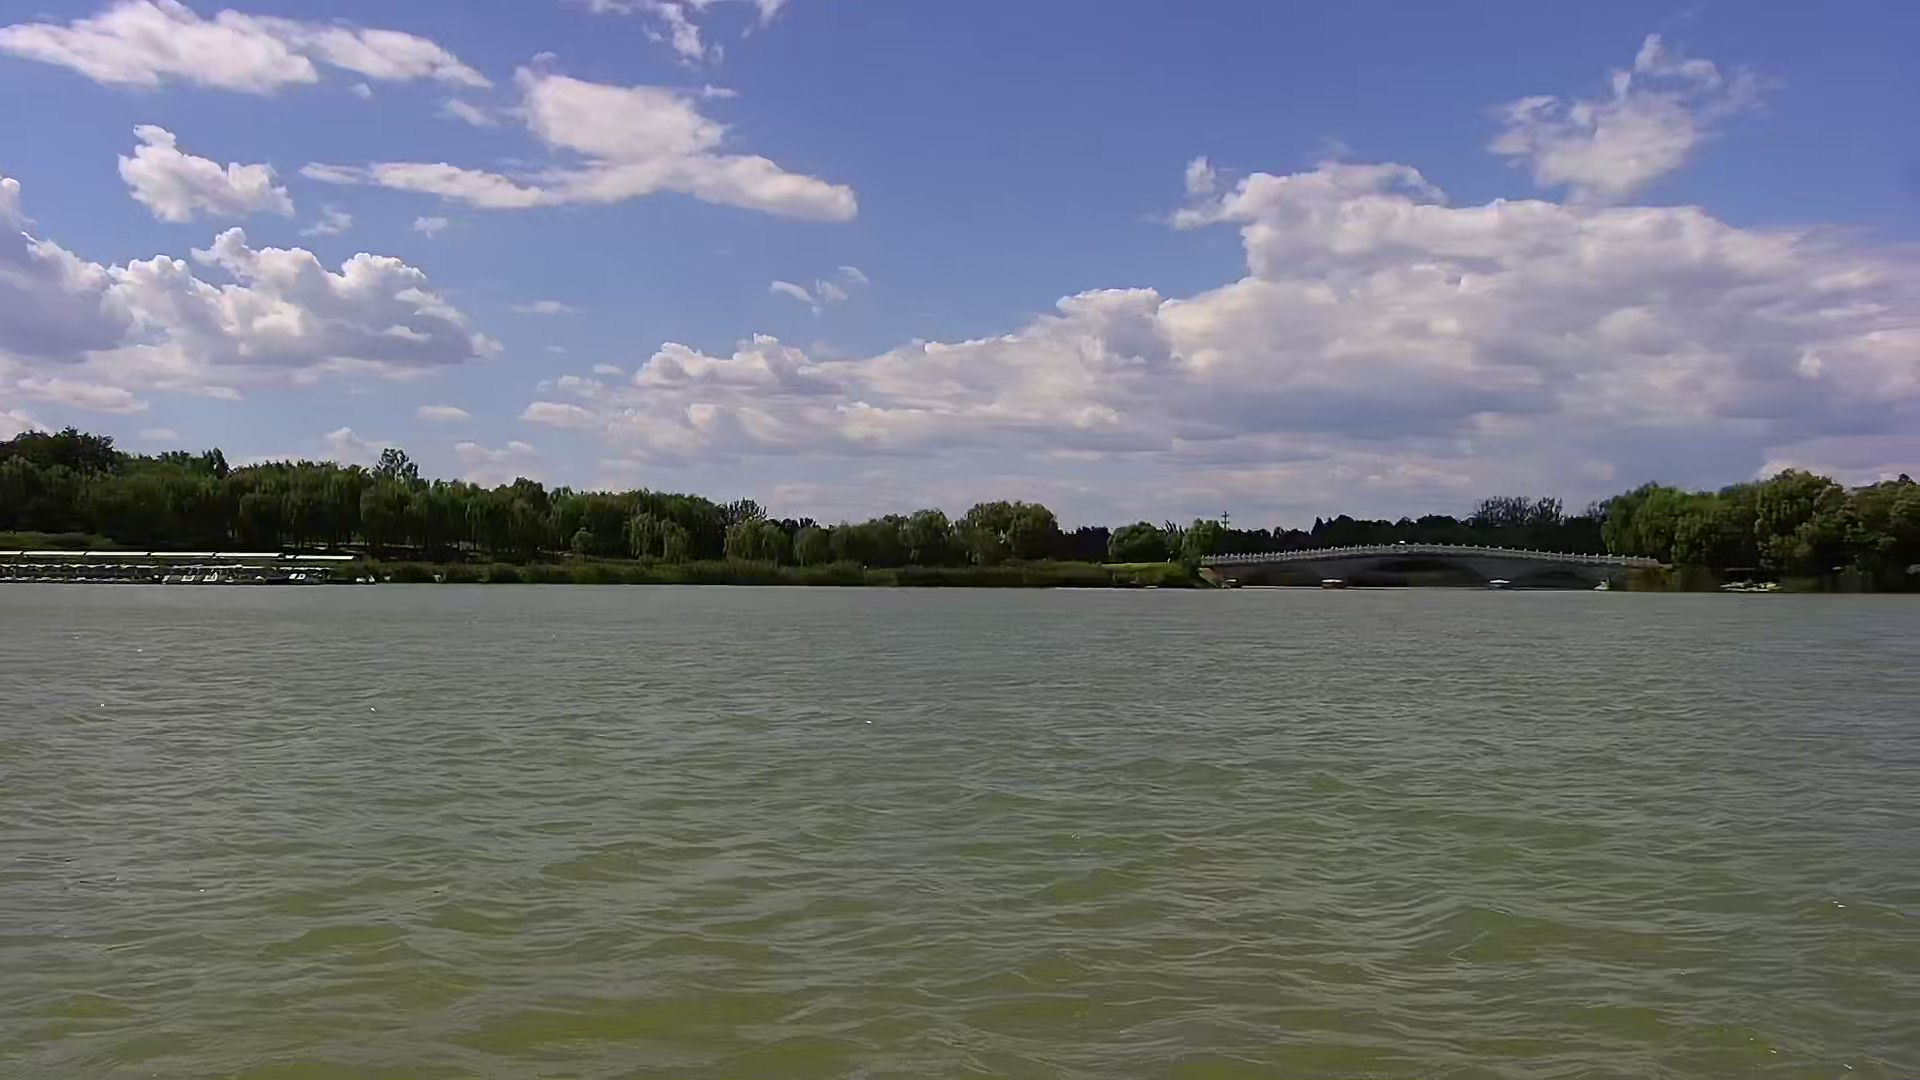bridge: (1197, 542, 1667, 597)
harbor: (7, 542, 353, 589)
